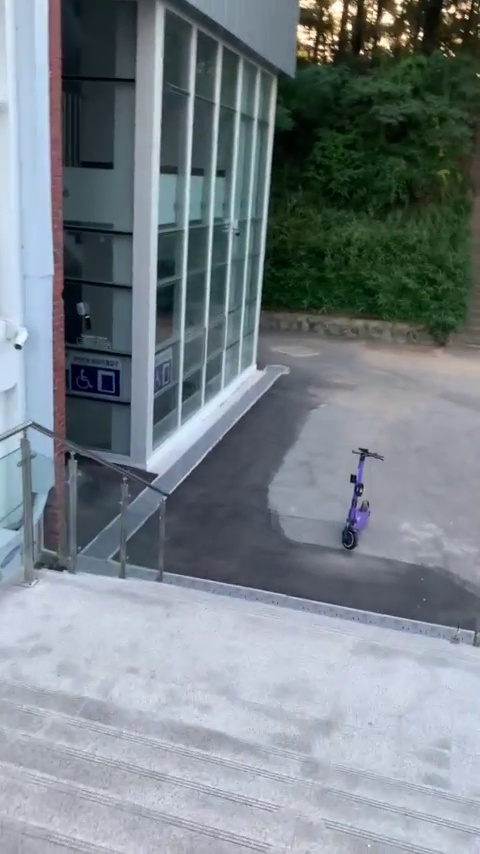beam: (335, 432, 390, 553)
